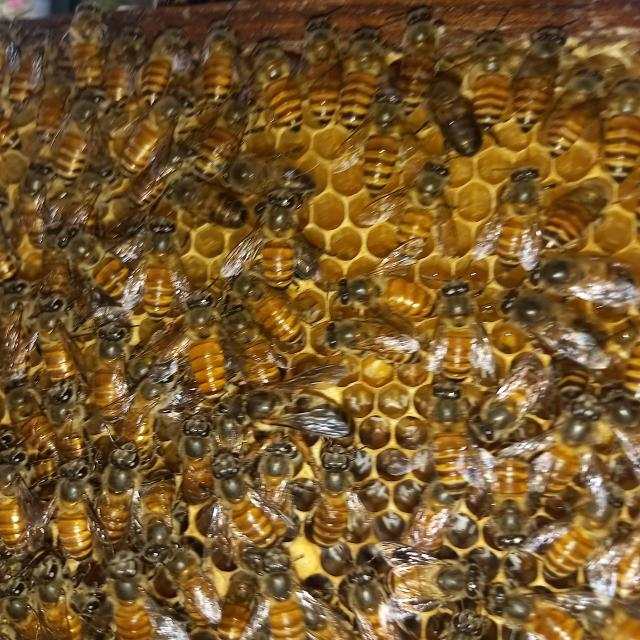honeybee: (335, 234, 425, 317), (388, 544, 487, 619), (540, 240, 631, 317), (254, 168, 325, 266), (210, 467, 284, 559), (430, 275, 493, 379), (583, 77, 640, 189), (476, 173, 550, 257), (245, 376, 349, 431), (410, 391, 460, 503), (500, 298, 576, 371), (472, 359, 532, 451), (42, 559, 106, 640), (66, 220, 125, 306), (265, 554, 323, 640), (206, 120, 276, 191), (3, 378, 74, 448), (101, 559, 162, 640), (431, 78, 490, 161), (592, 371, 640, 473), (538, 183, 605, 256), (66, 460, 114, 559), (44, 373, 114, 440), (15, 98, 86, 164), (219, 311, 284, 382), (332, 311, 404, 371), (307, 460, 356, 545), (397, 166, 458, 234), (63, 152, 122, 222), (52, 80, 116, 144), (20, 158, 75, 231), (243, 262, 305, 324), (98, 319, 147, 395), (332, 570, 392, 632), (132, 27, 186, 95), (9, 451, 45, 553), (496, 587, 565, 640), (560, 592, 636, 640), (215, 562, 261, 640), (254, 445, 312, 505), (393, 36, 432, 123), (530, 505, 594, 557), (182, 170, 224, 249), (0, 288, 46, 360), (146, 225, 182, 317), (142, 470, 180, 553), (168, 547, 204, 634), (39, 290, 77, 371), (170, 419, 203, 511), (135, 160, 206, 202), (295, 50, 332, 130), (258, 60, 296, 134), (190, 293, 226, 371), (374, 116, 406, 201), (470, 40, 508, 110), (72, 9, 114, 72), (520, 20, 547, 117), (131, 100, 165, 176), (104, 431, 140, 502), (3, 581, 46, 640), (563, 61, 580, 176), (342, 39, 367, 117), (552, 388, 584, 448), (105, 33, 132, 80), (214, 36, 232, 104)
